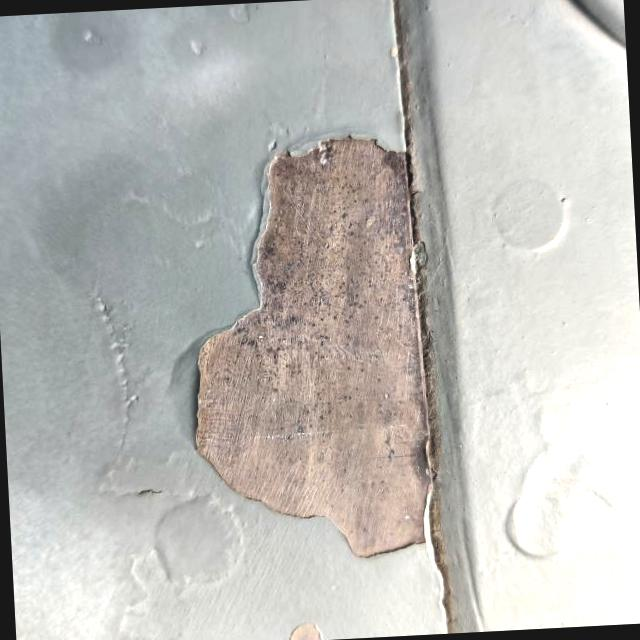paint-off: (136, 78, 524, 602)
